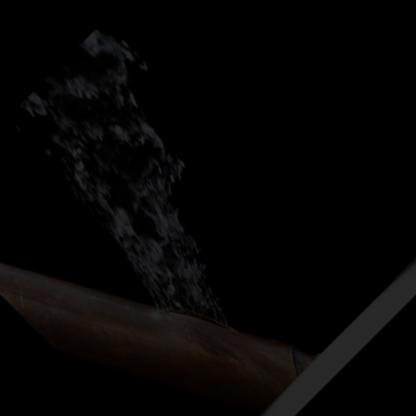burst: (126, 299, 266, 362)
